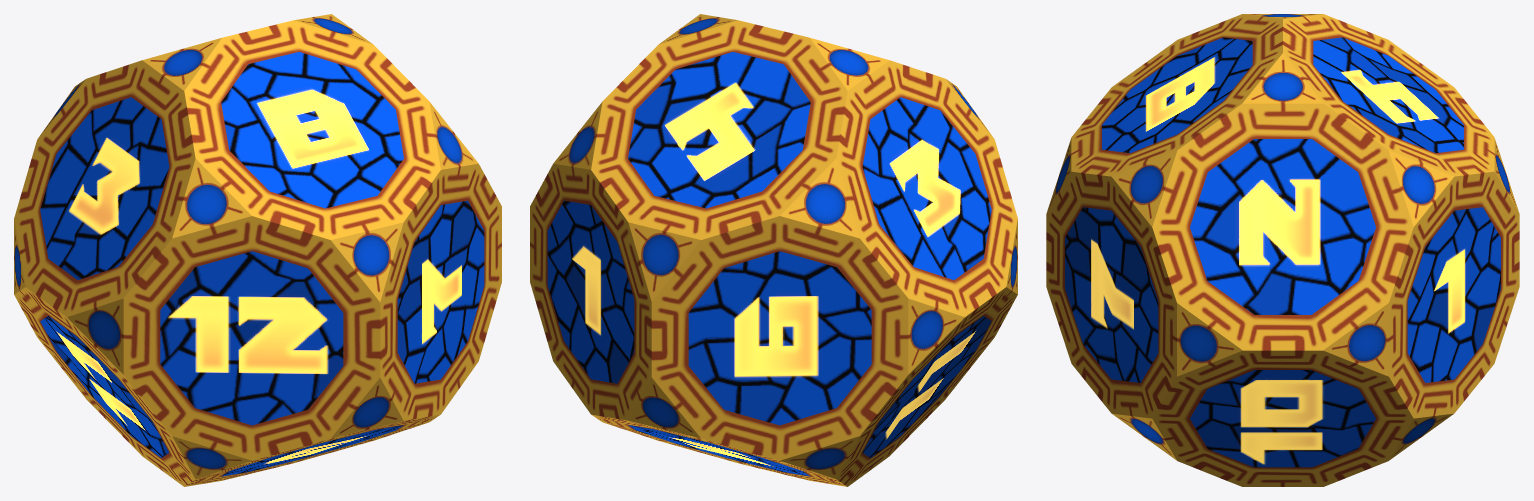
3 renders of one model, left to right at view 1: azimuth 30°, elevation 25°; view 2: azimuth 150°, elevation 25°; view 3: azimuth 270°, elevation 25°, orthographic. The views are drawn at different scales.
Visible parts, largest first — view 1: D12; view 2: D12; view 3: D12.
Part boxes in pixels (box(x1,y1,x2,y2)): D12: box(14, 14, 501, 486); D12: box(530, 14, 1017, 486); D12: box(1046, 14, 1519, 486).
Size of the model in its own units: 168 by 168 by 168.
Materials: 1 (1 with a texture image).
